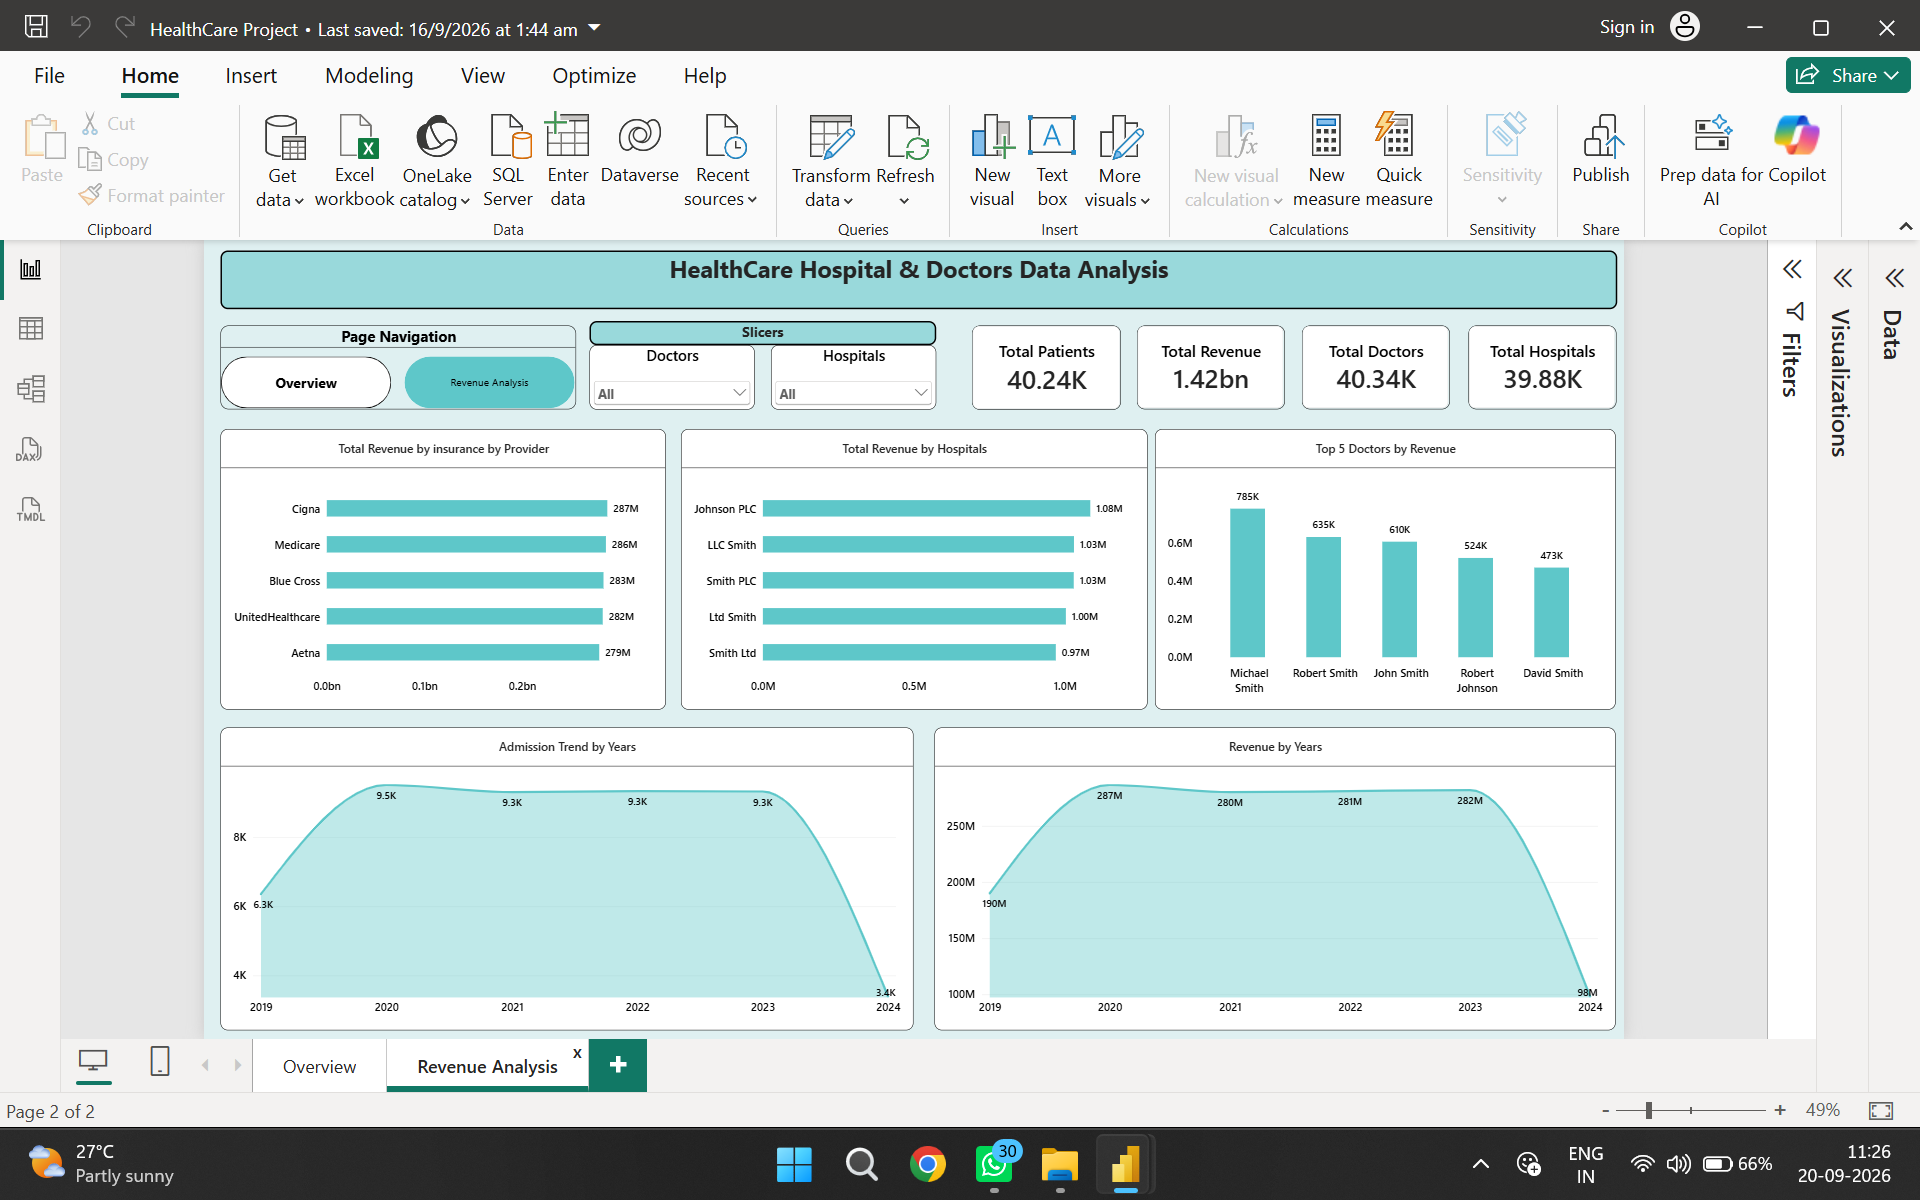

The page's visual inventory and layout, read from the dashboard file:
{"tool":"powerbi","page":{"name":"Revenue Analysis","canvas":[1920,1080],"ordinal":1},"visuals":[{"type":"cardVisual","fields":{"Data":["healthcare_dataset.Total Patients"]},"box":[1038.1,115.6,201,114],"z":0},{"type":"cardVisual","fields":{"Data":["healthcare_dataset.Total Revenue"]},"box":[1261.2,115.6,199.9,113.6],"z":1000},{"type":"cardVisual","fields":{"Data":["healthcare_dataset.Total Hospitals"]},"box":[1709.2,115.6,199.9,113.6],"z":2000},{"type":"cardVisual","fields":{"Data":["healthcare_dataset.Total Doctors"]},"box":[1484.2,115.6,199.9,113.6],"z":3000},{"type":"textbox","box":[22.3,14.2,1887.7,79.1],"z":4000},{"type":"pageNavigator","title":"Page Navigation","box":[22.3,115.6,480.5,113.5],"z":13000},{"type":"slicer","title":"Doctors","fields":{"Values":["healthcare_dataset.Doctor"]},"box":[521.1,141.9,223,87.2],"z":14000},{"type":"slicer","title":"Hospitals","fields":{"Values":["healthcare_dataset.Hospital"]},"box":[766.4,141.9,223,87.2],"z":15000},{"type":"textbox","box":[521.1,109.5,468.4,32.4],"z":16000},{"type":"barChart","title":"Total Revenue by insurance by Provider","fields":{"Category":["healthcare_dataset.Insurance Provider"],"Y":["Sum(healthcare_dataset.Billing Amount)"]},"box":[22.3,255.5,602.2,379.2],"z":16001},{"type":"barChart","title":"Total Revenue by Hospitals","fields":{"Category":["healthcare_dataset.Hospital"],"Y":["Sum(healthcare_dataset.Billing Amount)"]},"box":[644.8,255.5,630.6,379.2],"z":16002},{"type":"lineStackedColumnComboChart","title":"Top 5 Doctors by Revenue","fields":{"Category":["healthcare_dataset.Doctor"],"Y":["Sum(healthcare_dataset.Billing Amount)"]},"box":[1285.5,255.5,622.5,379.2],"z":16003},{"type":"lineChart","title":"Revenue by Years","fields":{"Category":["healthcare_dataset.Date of Admission.Variation.Date Hierarchy.Year"],"Y":["Sum(healthcare_dataset.Billing Amount)"]},"box":[987.4,659,920.5,409.6],"z":16004},{"type":"lineChart","title":"Admission Trend by Years","fields":{"Category":["healthcare_dataset.Date of Admission.Variation.Date Hierarchy.Year"],"Y":["Count(healthcare_dataset.Name)"]},"box":[22.3,659,936.7,409.6],"z":16005}]}

Visuals, with their boxes on the page's 1920x1080 design canvas (x1, y1, x2, y2). These are canvas units, not pixel positions in the 1920x1200 screenshot, which may show the page scaled, cropped or inside an application window:
cardVisual - healthcare_dataset.Total Patients: pyautogui.locateOnScreen(1038, 116, 1239, 230)
cardVisual - healthcare_dataset.Total Revenue: pyautogui.locateOnScreen(1261, 116, 1461, 229)
cardVisual - healthcare_dataset.Total Hospitals: pyautogui.locateOnScreen(1709, 116, 1909, 229)
cardVisual - healthcare_dataset.Total Doctors: pyautogui.locateOnScreen(1484, 116, 1684, 229)
textbox: pyautogui.locateOnScreen(22, 14, 1910, 93)
"Page Navigation" pageNavigator: pyautogui.locateOnScreen(22, 116, 503, 229)
"Doctors" slicer: pyautogui.locateOnScreen(521, 142, 744, 229)
"Hospitals" slicer: pyautogui.locateOnScreen(766, 142, 989, 229)
textbox: pyautogui.locateOnScreen(521, 110, 990, 142)
"Total Revenue by insurance by Provider" barChart: pyautogui.locateOnScreen(22, 256, 624, 635)
"Total Revenue by Hospitals" barChart: pyautogui.locateOnScreen(645, 256, 1275, 635)
"Top 5 Doctors by Revenue" lineStackedColumnComboChart: pyautogui.locateOnScreen(1286, 256, 1908, 635)
"Revenue by Years" lineChart: pyautogui.locateOnScreen(987, 659, 1908, 1069)
"Admission Trend by Years" lineChart: pyautogui.locateOnScreen(22, 659, 959, 1069)
